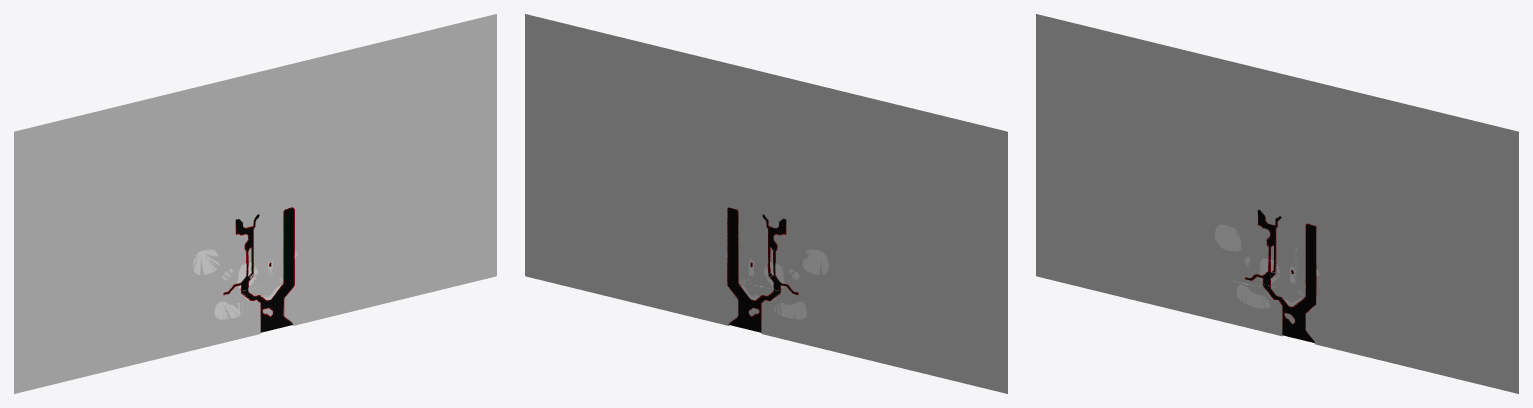
The model's file is NewYorkCity.glb.
3 views of the same model, side by side, from view 1: azimuth 30°, elevation 25°; view 2: azimuth 150°, elevation 25°; view 3: azimuth 330°, elevation 25° (orthographic).
Visible parts, largest first — view 1: MSH_Map_NewYorkCity_Land, MSH_MAP_NewYorkCity_Water, MSH_MAP_NewYorkCity_Grass, MSH_Map_Grass_Middle_01; view 2: MSH_Map_NewYorkCity_Land, MSH_MAP_NewYorkCity_Water, MSH_MAP_NewYorkCity_Grass, MSH_Map_Grass_Middle_01; view 3: MSH_Map_NewYorkCity_Land, MSH_MAP_NewYorkCity_Water, MSH_MAP_NewYorkCity_Grass, MSH_Map_Grass_Middle_01.
Boxes of the visible parts, box(x1,y1,x2,y2) form: MSH_Map_NewYorkCity_Land: box(14, 14, 496, 393); MSH_MAP_NewYorkCity_Water: box(223, 207, 294, 332); MSH_MAP_NewYorkCity_Grass: box(214, 262, 281, 319); MSH_Map_Grass_Middle_01: box(193, 249, 219, 274); MSH_Map_NewYorkCity_Land: box(525, 14, 1007, 393); MSH_MAP_NewYorkCity_Water: box(727, 207, 798, 332); MSH_MAP_NewYorkCity_Grass: box(740, 262, 807, 319); MSH_Map_Grass_Middle_01: box(802, 249, 829, 275); MSH_Map_NewYorkCity_Land: box(1036, 14, 1518, 393); MSH_MAP_NewYorkCity_Water: box(1245, 209, 1316, 342); MSH_MAP_NewYorkCity_Grass: box(1236, 258, 1304, 308); MSH_Map_Grass_Middle_01: box(1214, 224, 1241, 251).
Size of the model in its own units: 546 by 284 by 0.0298.
Materials: 9 (1 with a texture image).
